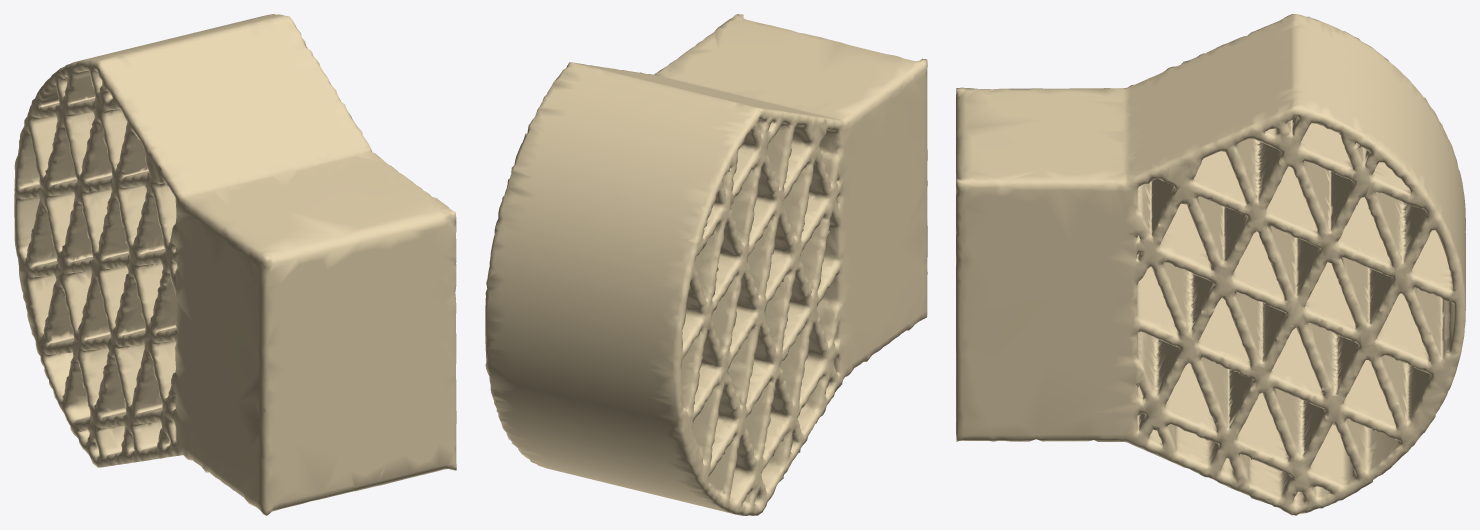
Rendered from ollie-paw-shape-075.glb.
The picture shows the model from 3 angles, left to right: view 1: azimuth 30°, elevation 25°; view 2: azimuth 150°, elevation 25°; view 3: azimuth 270°, elevation 25°; orthographic projection.
Visible parts, largest first — view 1: world; view 2: world; view 3: world.
Part boxes in pixels (x1,y1,x2,y2): world: (14,14,456,515); world: (485,14,927,515); world: (956,14,1465,515).
Size of the model in its own units: 20 by 39.97 by 45.
